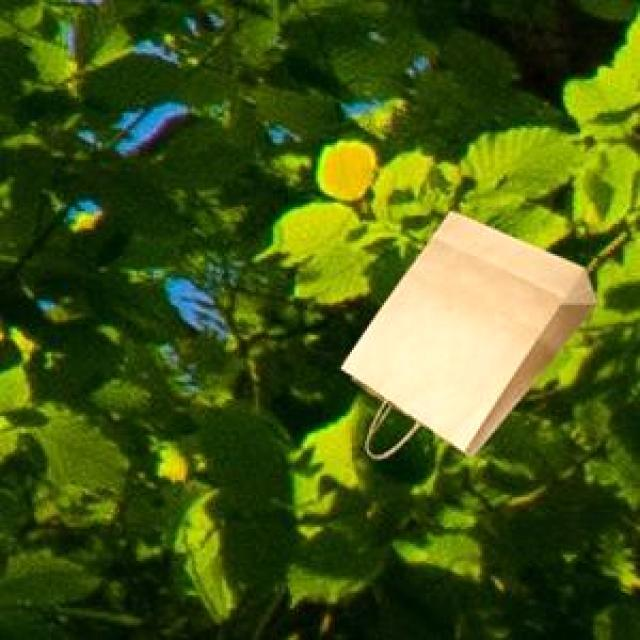Paper_Bag: (338, 208, 594, 453)
